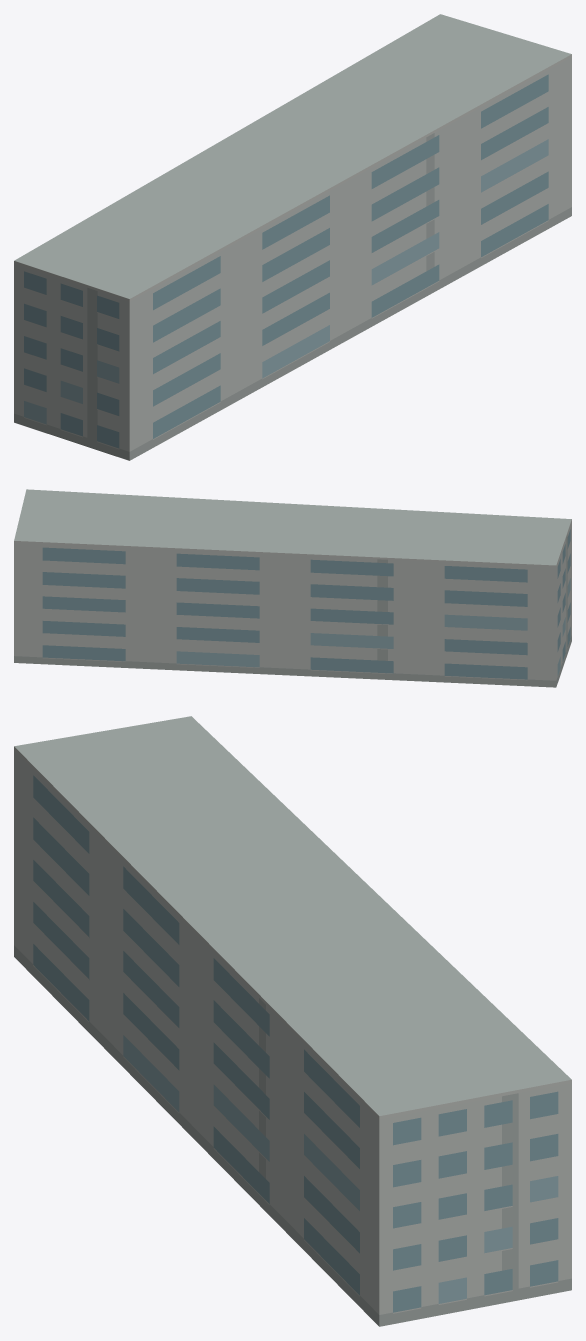
Rendered from residential-020a4428-5ecb-4dcd-acc8-fc9c25dbdf25.glb.
The picture shows the model from 3 angles, top to bottom: view 1: azimuth 30°, elevation 25°; view 2: azimuth 150°, elevation 25°; view 3: azimuth 270°, elevation 25°; orthographic projection. The views are drawn at different scales.
Parts seen in each view (by area): view 1: residential-020a4428-5ecb-4dcd-acc8-fc9c25dbdf25.tmp; view 2: residential-020a4428-5ecb-4dcd-acc8-fc9c25dbdf25.tmp; view 3: residential-020a4428-5ecb-4dcd-acc8-fc9c25dbdf25.tmp.
Boxes of the visible parts, x1,y1,x2,y2 form: residential-020a4428-5ecb-4dcd-acc8-fc9c25dbdf25.tmp: [14, 14, 571, 460]; residential-020a4428-5ecb-4dcd-acc8-fc9c25dbdf25.tmp: [14, 489, 571, 687]; residential-020a4428-5ecb-4dcd-acc8-fc9c25dbdf25.tmp: [14, 716, 571, 1326].
Size of the model in its own units: 62.15 by 15.25 by 36.62.
